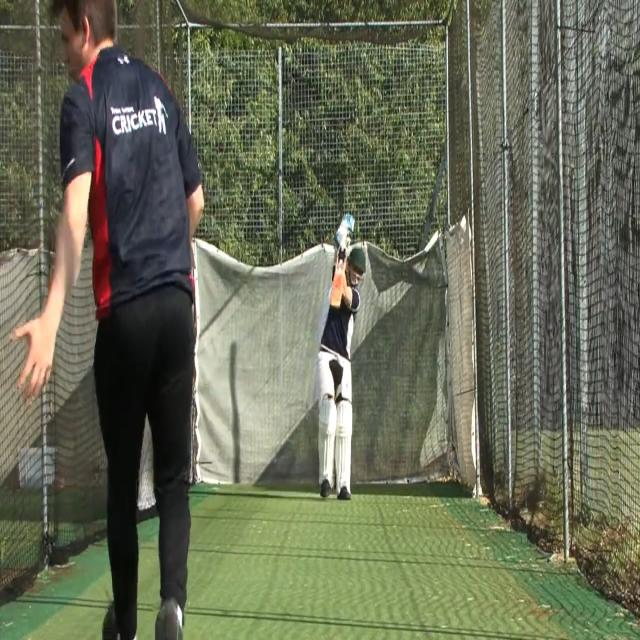batsman: (315, 212, 367, 503)
